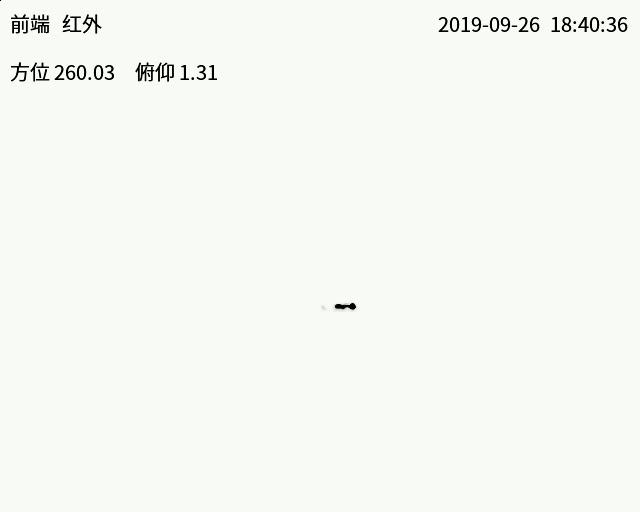uav: (306, 294, 371, 320)
